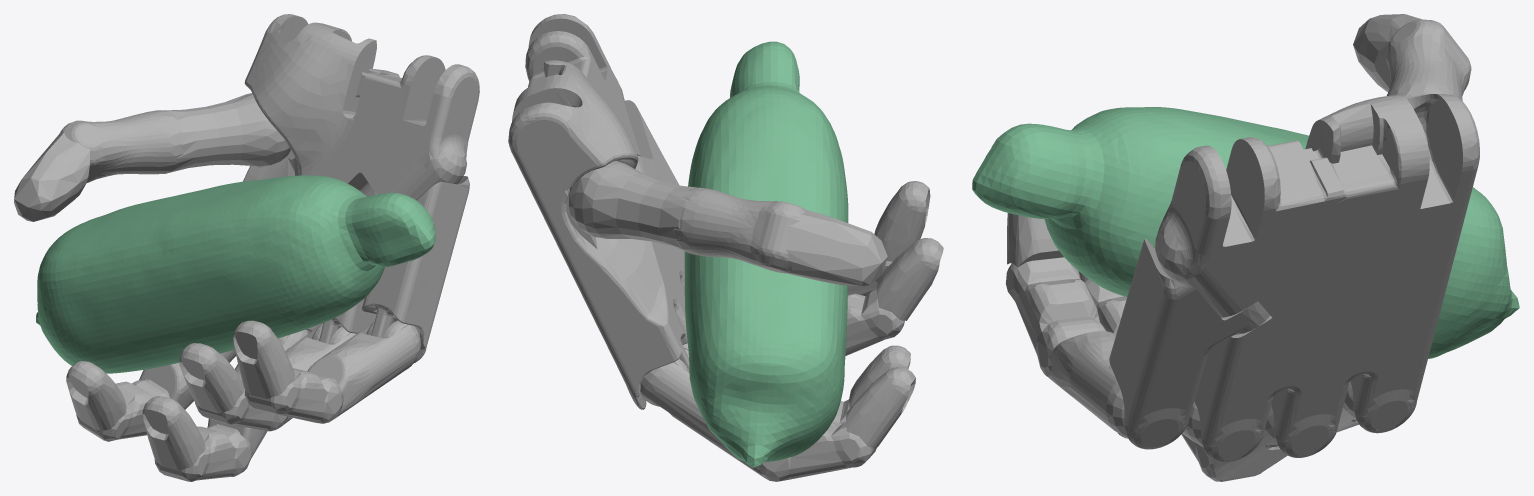
The picture shows the model from 3 angles, left to right: view 1: azimuth 30°, elevation 25°; view 2: azimuth 150°, elevation 25°; view 3: azimuth 270°, elevation 25°; orthographic projection. The views are drawn at different scales.
Visible parts, largest first — view 1: world; view 2: world; view 3: world.
Part boxes in pixels (left/top/right/bottom): world: left=14, top=14, right=479, bottom=481; world: left=508, top=14, right=943, bottom=481; world: left=972, top=14, right=1519, bottom=481.
Bounding box in the file's own units: 1.04 × 0.9098 × 0.9484.
